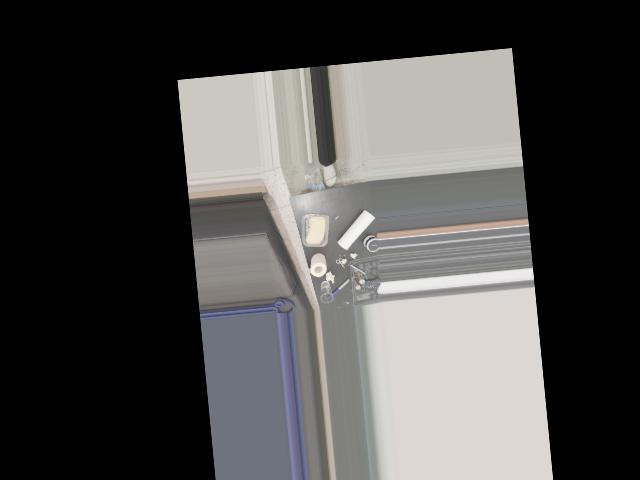cheese: (298, 208, 333, 249)
